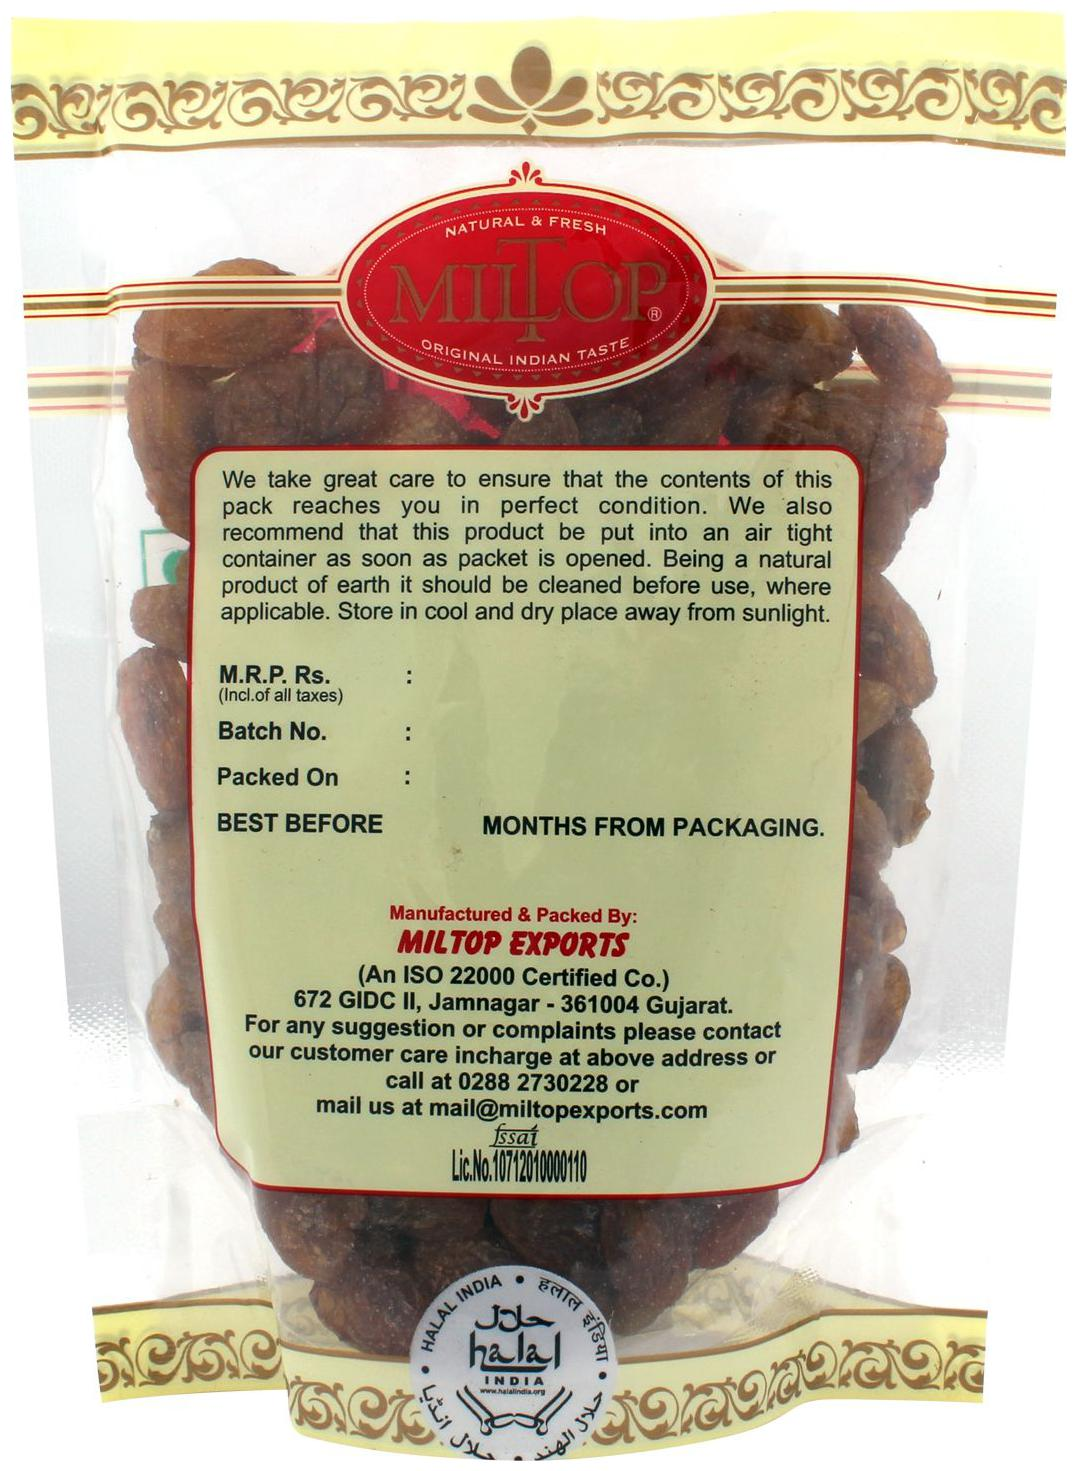fssai: (489, 1122, 541, 1147)
